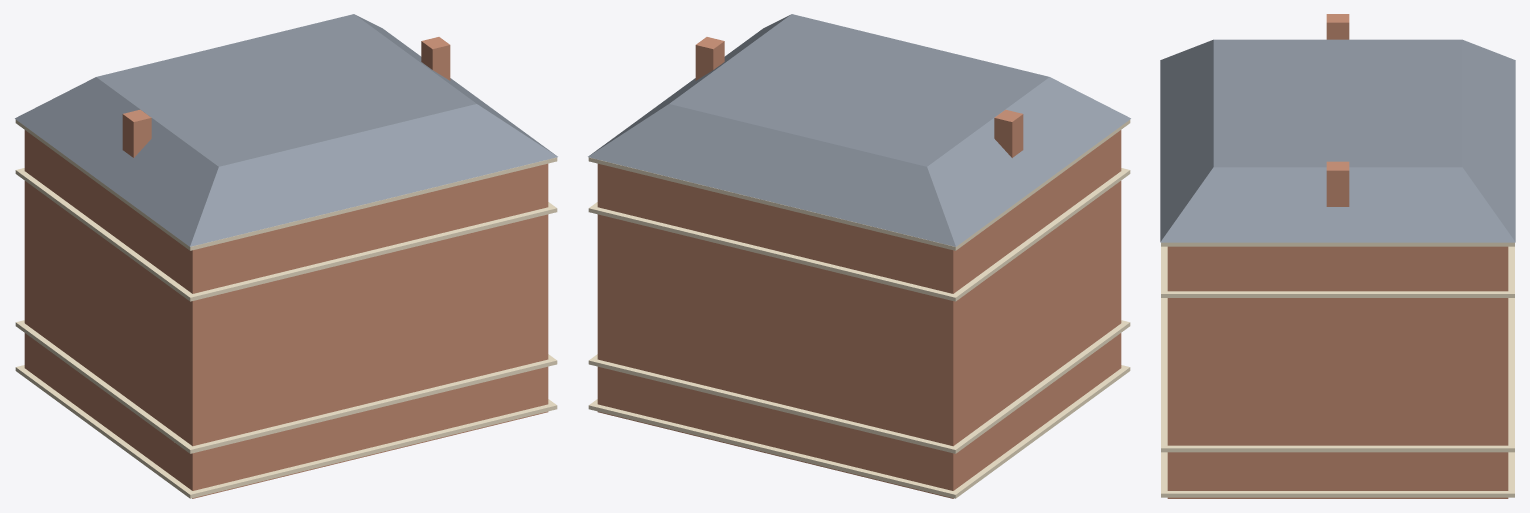
File: heritage-4-lod2.glb
3 renders of one model, left to right at view 1: azimuth 30°, elevation 25°; view 2: azimuth 150°, elevation 25°; view 3: azimuth 270°, elevation 25°, orthographic.
Parts seen in each view (by area): view 1: heritage-4_architecture; view 2: heritage-4_architecture; view 3: heritage-4_architecture.
Boxes of the visible parts, x1,y1,x2,y2 form: heritage-4_architecture: [15, 14, 557, 498]; heritage-4_architecture: [588, 14, 1130, 498]; heritage-4_architecture: [1160, 14, 1515, 498].
Bounding box in the file's own units: 22.8 × 18.6 × 18.8.
